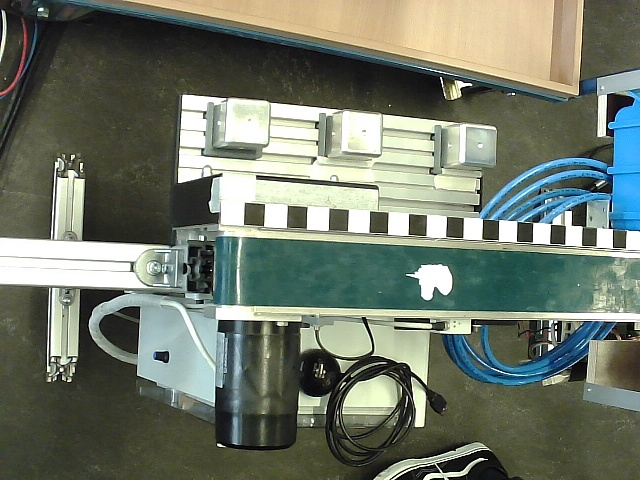unicorn: (404, 263, 454, 302)
